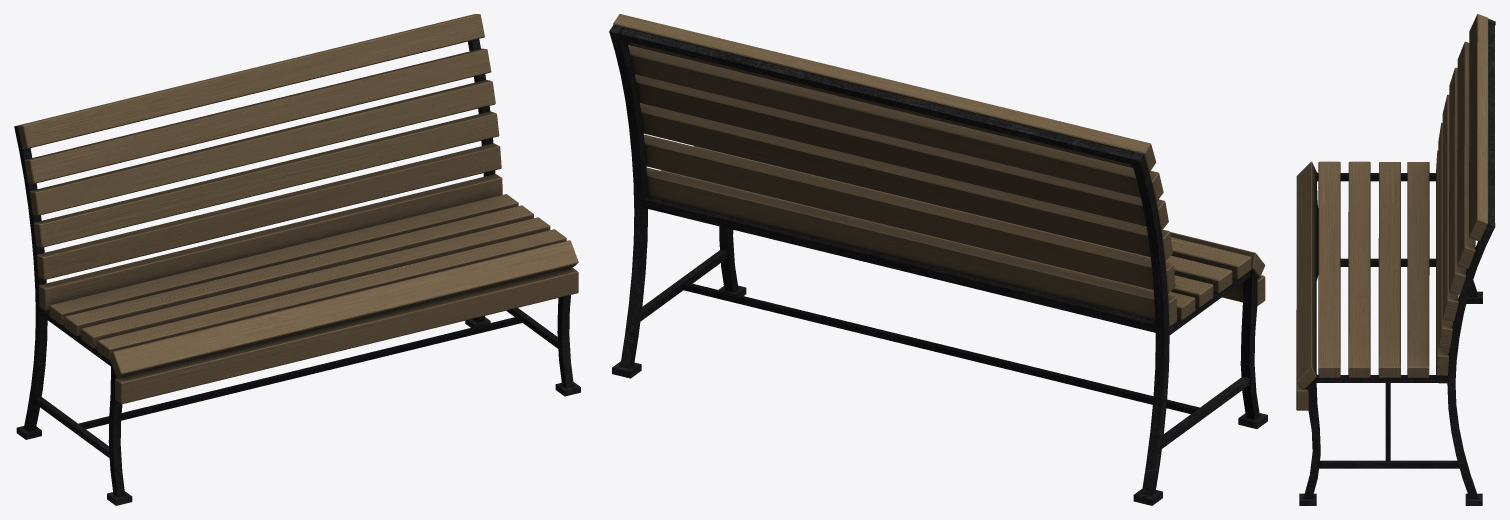
The model's file is Usual bench A.FBX.
3 views of the same model, side by side, from view 1: azimuth 30°, elevation 25°; view 2: azimuth 150°, elevation 25°; view 3: azimuth 270°, elevation 25° (orthographic). The views are drawn at different scales.
Parts seen in each view (by area): view 1: Usual bench A; view 2: Usual bench A; view 3: Usual bench A.
Part boxes in pixels (box(x1,y1,x2,y2)): Usual bench A: box(14, 14, 580, 505); Usual bench A: box(609, 14, 1267, 505); Usual bench A: box(1296, 14, 1495, 505).
Bounding box in the file's own units: 1738 × 1104 × 699.
